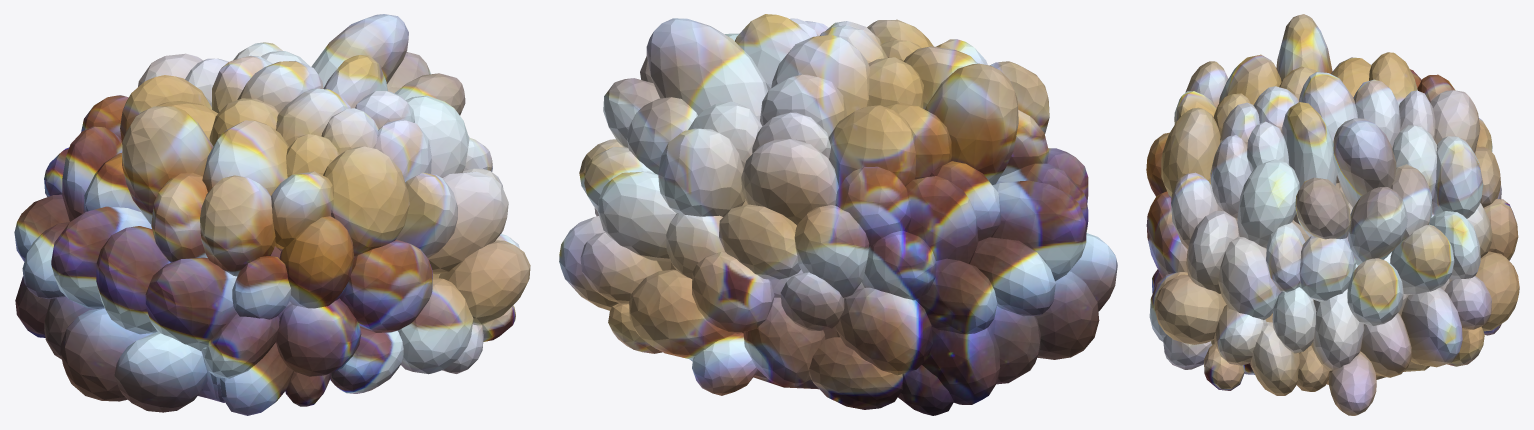
The model's file is fishtank_bubblecoral.dae.
3 views of the same model, side by side, from view 1: azimuth 30°, elevation 25°; view 2: azimuth 150°, elevation 25°; view 3: azimuth 270°, elevation 25° (orthographic). The views are drawn at different scales.
Visible parts, largest first — view 1: _1489_Bubble_coral_v1_v4_001; view 2: _1489_Bubble_coral_v1_v4_001; view 3: _1489_Bubble_coral_v1_v4_001.
Part boxes in pixels (x1,y1,x2,y2): _1489_Bubble_coral_v1_v4_001: (14, 14, 530, 415); _1489_Bubble_coral_v1_v4_001: (559, 14, 1117, 415); _1489_Bubble_coral_v1_v4_001: (1146, 14, 1519, 415).
Bounding box in the file's own units: 110 × 82.78 × 61.79.
Materials: 1 (1 with a texture image).
